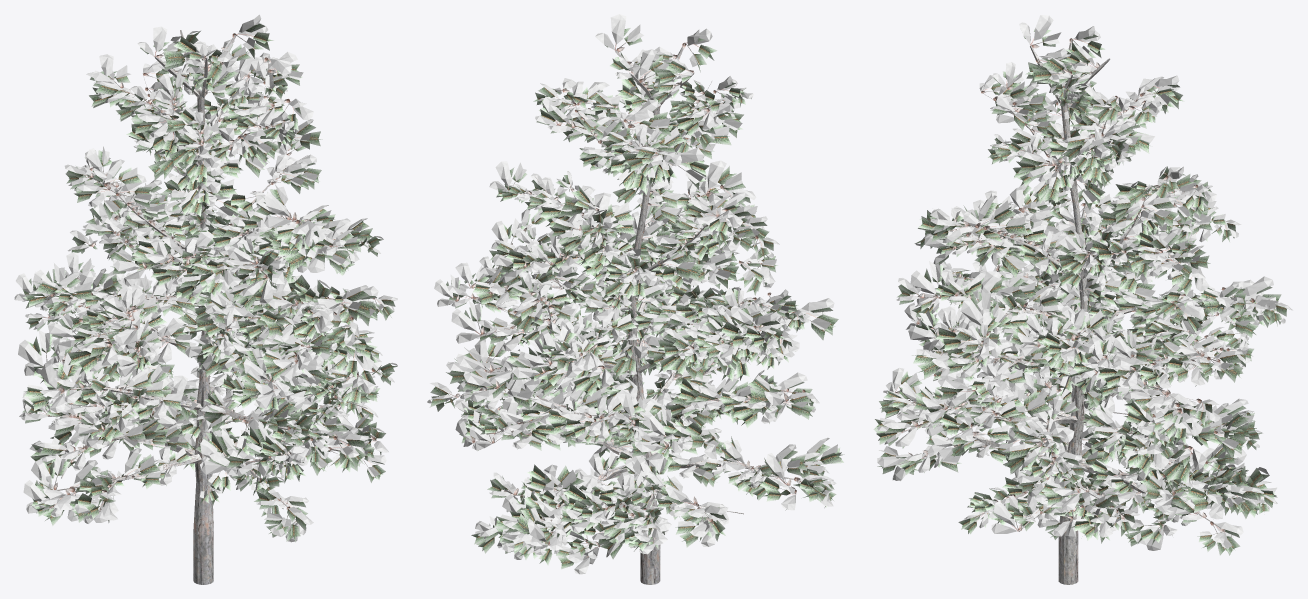
File: sweethome3d-scopia-pine-under-snow.glb
3 views of the same model, side by side, from view 1: azimuth 30°, elevation 25°; view 2: azimuth 150°, elevation 25°; view 3: azimuth 270°, elevation 25° (orthographic). The views are drawn at different scales.
Parts seen in each view (by area): view 1: twigs_leaves, tree; view 2: twigs_leaves, tree; view 3: twigs_leaves, tree.
Part boxes in pixels (bbox=[...]): twigs_leaves: bbox=[14, 14, 397, 542]; tree: bbox=[48, 30, 375, 584]; twigs_leaves: bbox=[427, 14, 844, 574]; tree: bbox=[456, 43, 816, 584]; twigs_leaves: bbox=[873, 15, 1292, 555]; tree: bbox=[898, 39, 1254, 584].
Size of the model in its own units: 375 by 546 by 379.
Materials: 3 (3 with a texture image).
